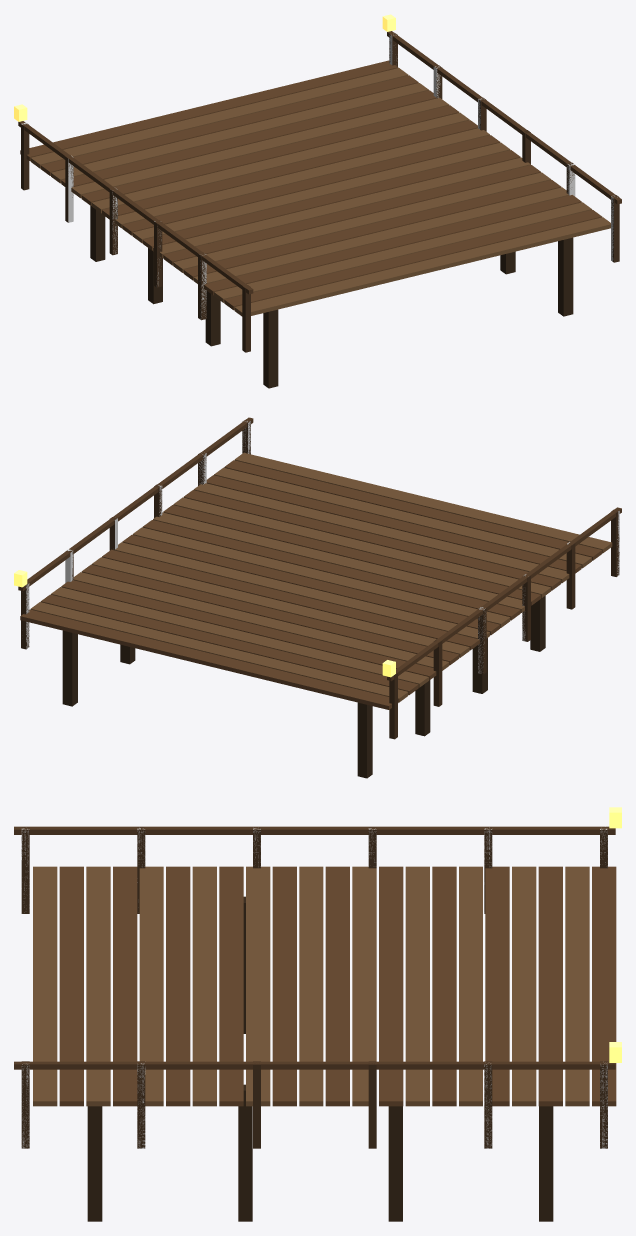
Rendered from wood-bridge.glb.
The picture shows the model from 3 angles, top to bottom: view 1: azimuth 30°, elevation 25°; view 2: azimuth 150°, elevation 25°; view 3: azimuth 270°, elevation 25°; orthographic projection. The views are drawn at different scales.
Parts seen in each view (by area): view 1: 01_#7a5a3a, 00_#6a4a2e, 05_#3a2a1a_r320, 03_#4a3420_r320, 02_#5a3e26; view 2: 00_#6a4a2e, 01_#7a5a3a, 05_#3a2a1a_r320, 03_#4a3420_r320, 02_#5a3e26; view 3: 00_#6a4a2e, 01_#7a5a3a, 02_#5a3e26, 05_#3a2a1a_r320, 03_#4a3420_r320.
Boxes of the visible parts, <box> form: 01_#7a5a3a: <box>30,68,610,316</box>; 00_#6a4a2e: <box>20,60,602,310</box>; 05_#3a2a1a_r320: <box>90,206,573,388</box>; 03_#4a3420_r320: <box>21,33,619,352</box>; 02_#5a3e26: <box>18,31,621,294</box>; 00_#6a4a2e: <box>20,460,602,709</box>; 01_#7a5a3a: <box>30,452,612,702</box>; 05_#3a2a1a_r320: <box>62,595,545,778</box>; 03_#4a3420_r320: <box>21,420,619,739</box>; 02_#5a3e26: <box>18,417,621,680</box>; 00_#6a4a2e: <box>59,866,616,1106</box>; 01_#7a5a3a: <box>33,866,589,1106</box>; 02_#5a3e26: <box>14,826,615,1069</box>; 05_#3a2a1a_r320: <box>87,896,553,1221</box>; 03_#4a3420_r320: <box>21,827,607,1148</box>.
Bounding box in the file's own units: 9.82 × 3.6 × 10.51.
